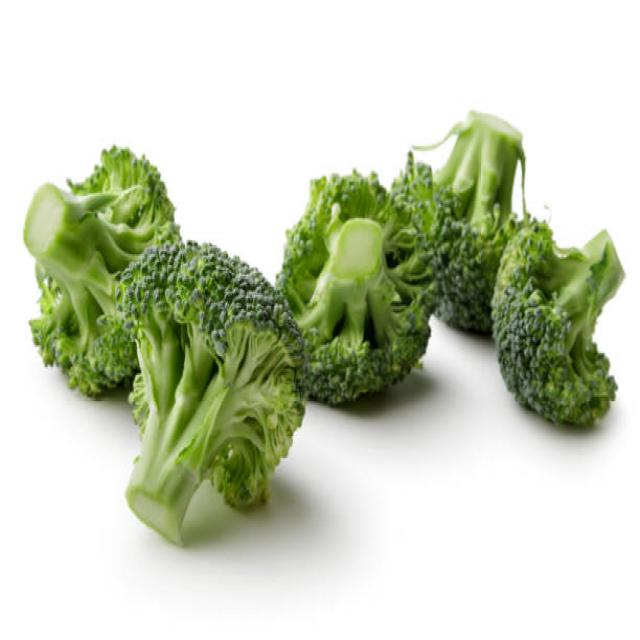Broccoli head: (140, 270, 328, 566), (503, 228, 635, 444), (11, 112, 120, 368), (294, 190, 404, 404), (424, 76, 501, 316)
